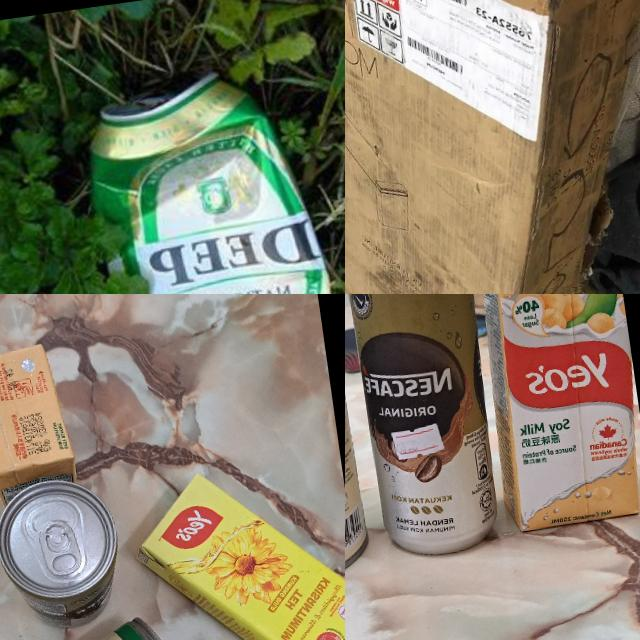aba de lata: (35, 518, 84, 578)
caixinha: (464, 294, 640, 536), (125, 453, 345, 640), (0, 339, 78, 506)
lata: (77, 53, 345, 294), (345, 294, 507, 560), (0, 470, 130, 633)
papelão: (345, 0, 640, 294)
